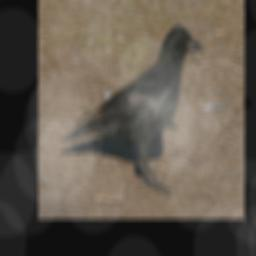Crow: (61, 23, 201, 195)
